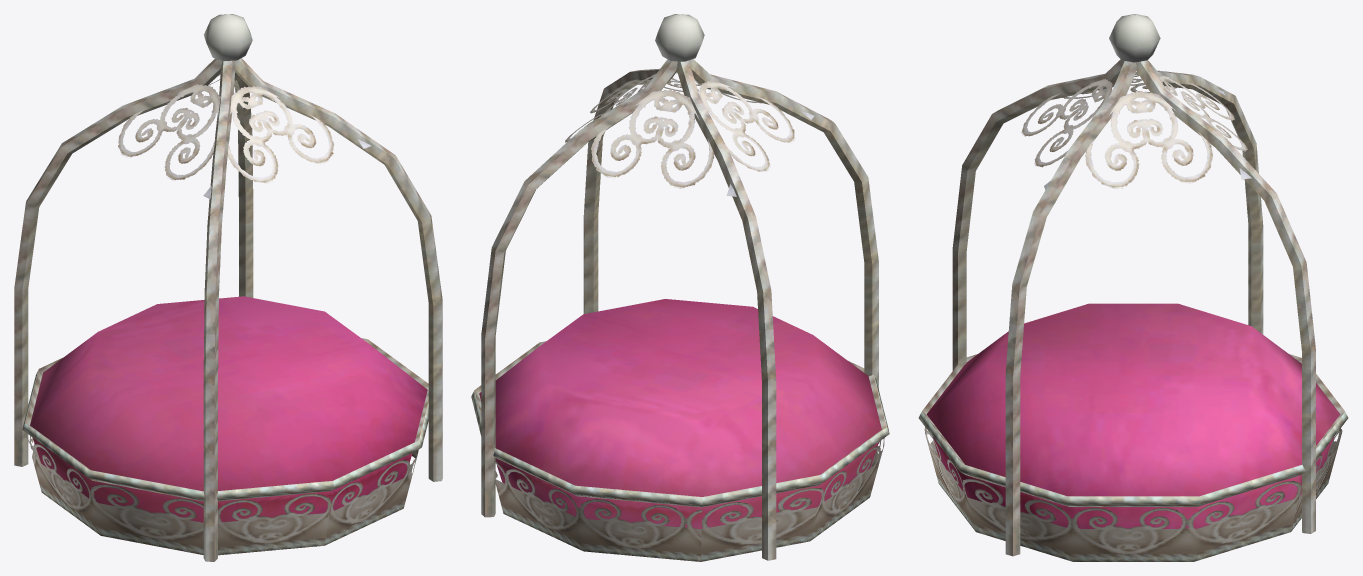
Rendered from furni_0200131.FBX.
The picture shows the model from 3 angles, left to right: view 1: azimuth 30°, elevation 25°; view 2: azimuth 150°, elevation 25°; view 3: azimuth 270°, elevation 25°; orthographic projection.
Parts seen in each view (by area): view 1: furni_0200131; view 2: furni_0200131; view 3: furni_0200131.
Part boxes in pixels (left/top/right/bottom): furni_0200131: left=14, top=14, right=442, bottom=561; furni_0200131: left=471, top=14, right=889, bottom=561; furni_0200131: left=918, top=14, right=1348, bottom=561.
Size of the model in its own units: 77.96 by 98.6 by 81.98.
Materials: 1 (1 with a texture image).
